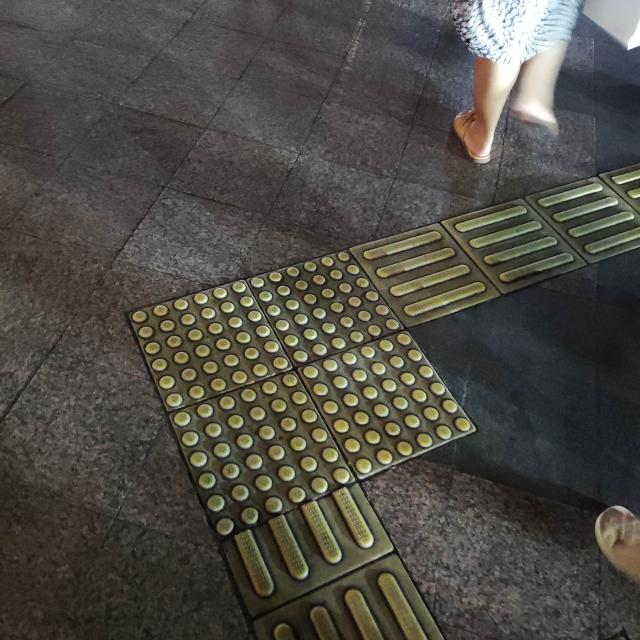kanan: (64, 214, 640, 535)
